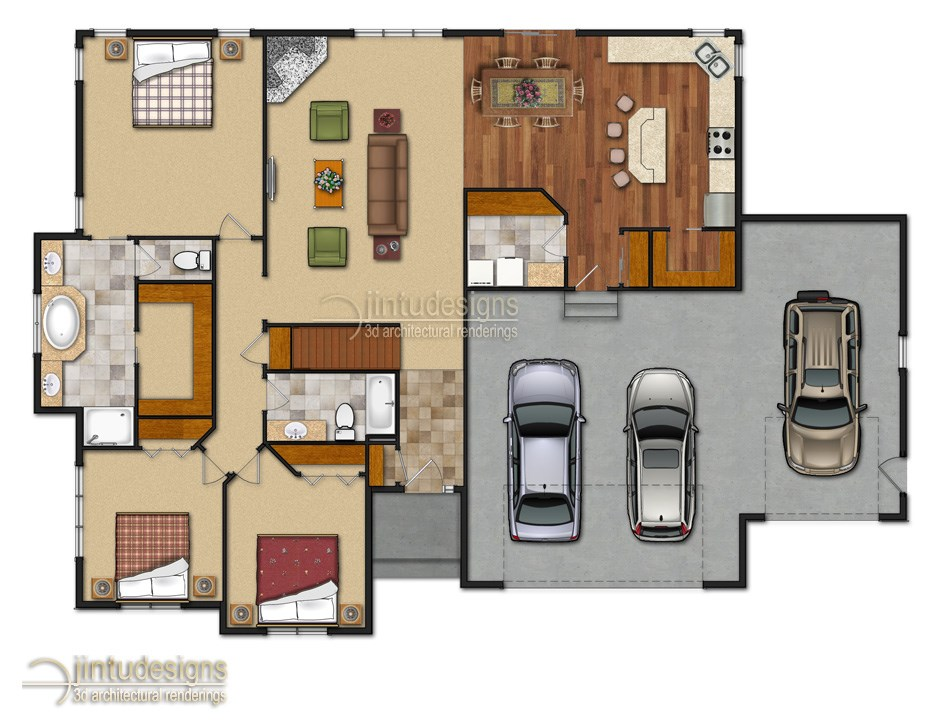room: (264, 29, 466, 326), (462, 29, 743, 193), (75, 31, 264, 242), (74, 445, 228, 611), (220, 472, 373, 635)
